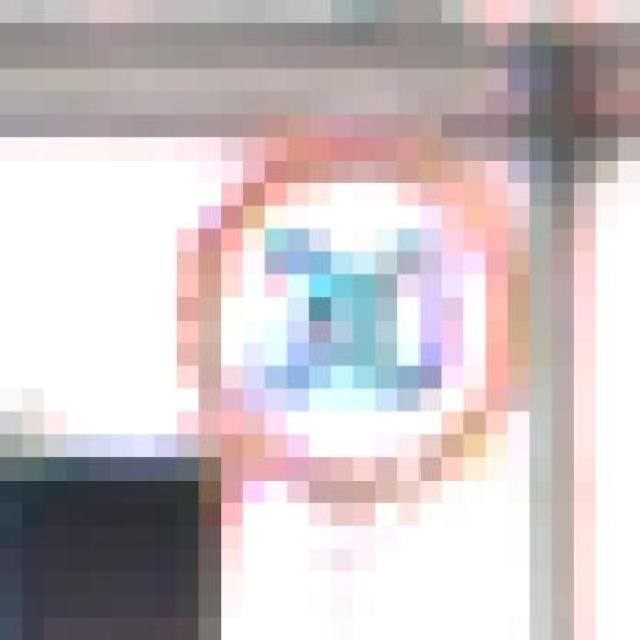Speed Limit 30 KMPh: (111, 114, 574, 572)
